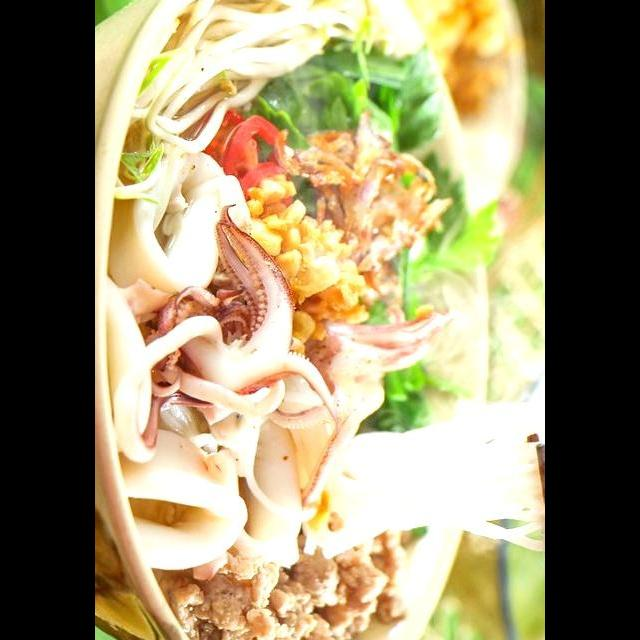bun: (283, 390, 545, 564)
muc: (102, 196, 343, 476), (242, 301, 467, 511), (103, 135, 256, 311), (113, 424, 256, 572), (193, 404, 308, 557)
thit bam: (140, 522, 416, 640)
